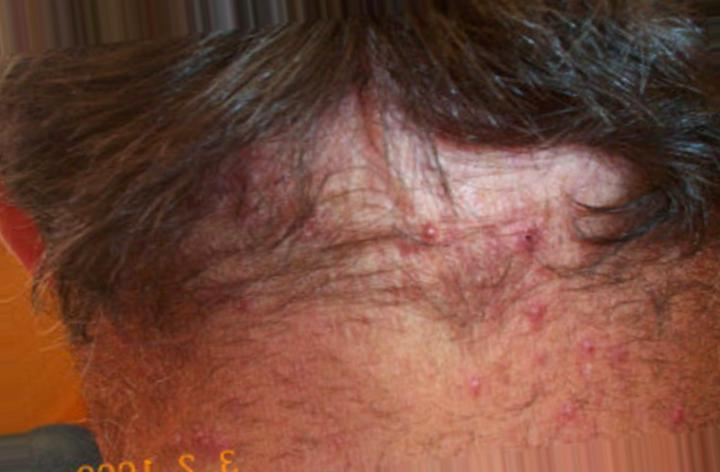Folliculitis: (213, 154, 626, 395)
